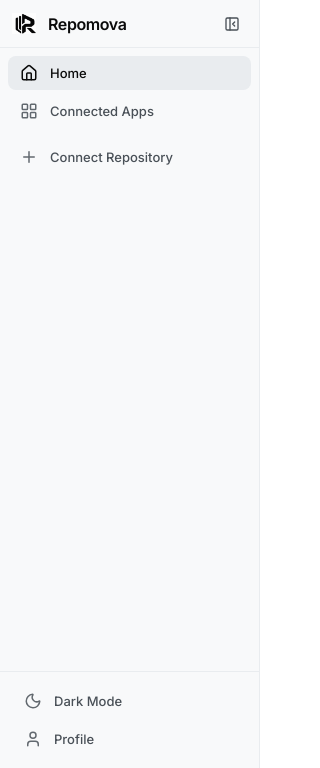
Test: Authentication Flow, Dedicated Pages & Profile Menu › Profile Menu for Signed-Out Users › does NOT display Sign In or Sign Up options in the bottom-left profile popover
Click the button "Profile": (130, 739) [12, 722, 247, 756]
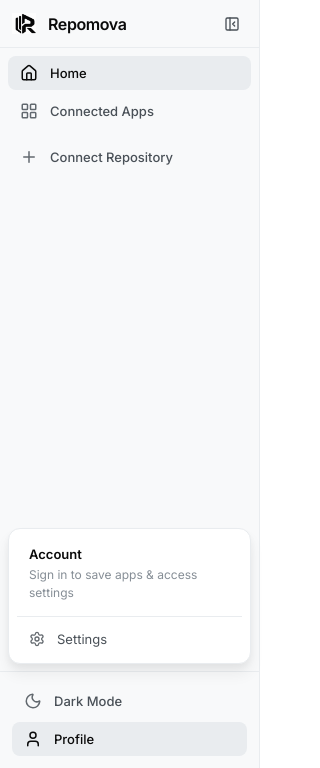
Expected: the menu named "Profile and account menu" is shown, [8, 528, 251, 664]
Expected: the menu item "Settings" is shown, [17, 623, 242, 655]
